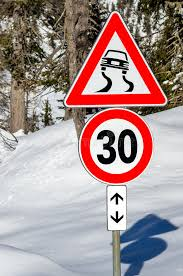Speed_limit_30km: (78, 108, 153, 183)
